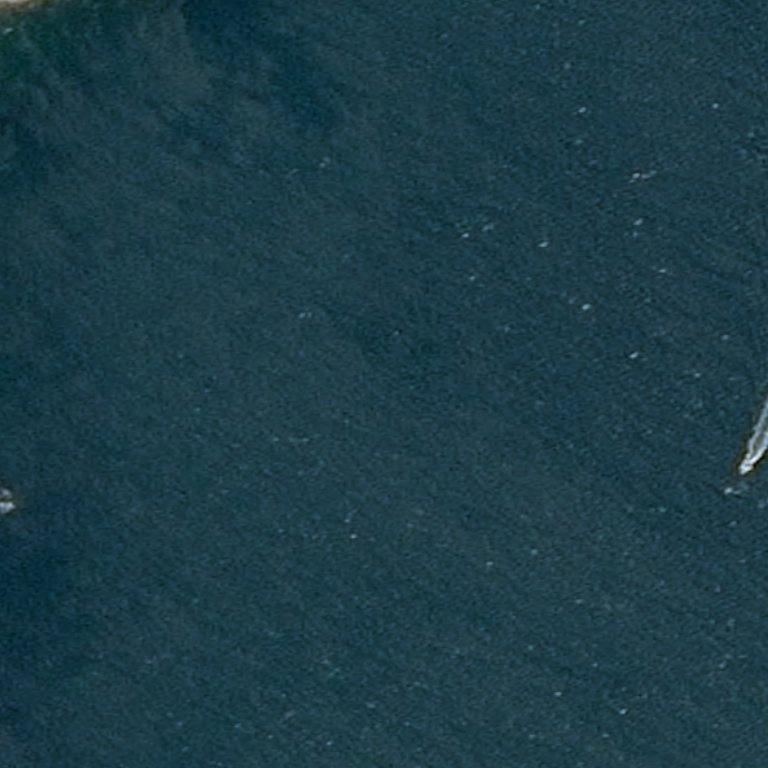ship: (735, 453, 756, 479), (739, 473, 742, 475), (744, 459, 746, 460), (752, 464, 752, 464)
